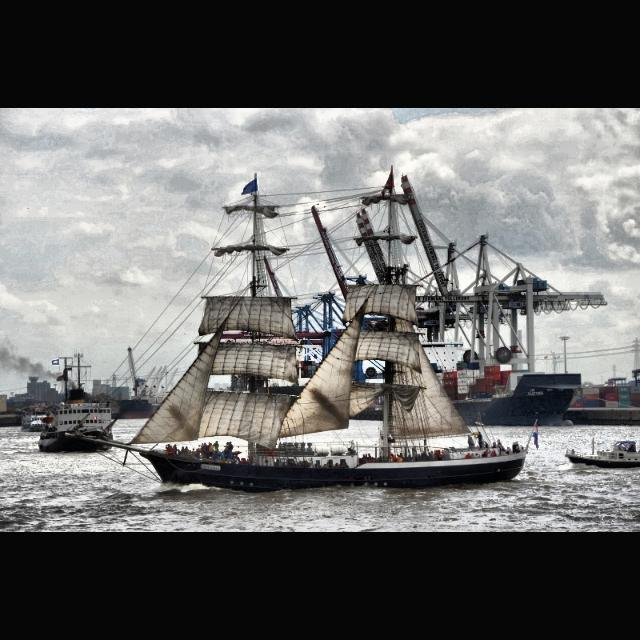sailing_vessel: (64, 164, 530, 490)
